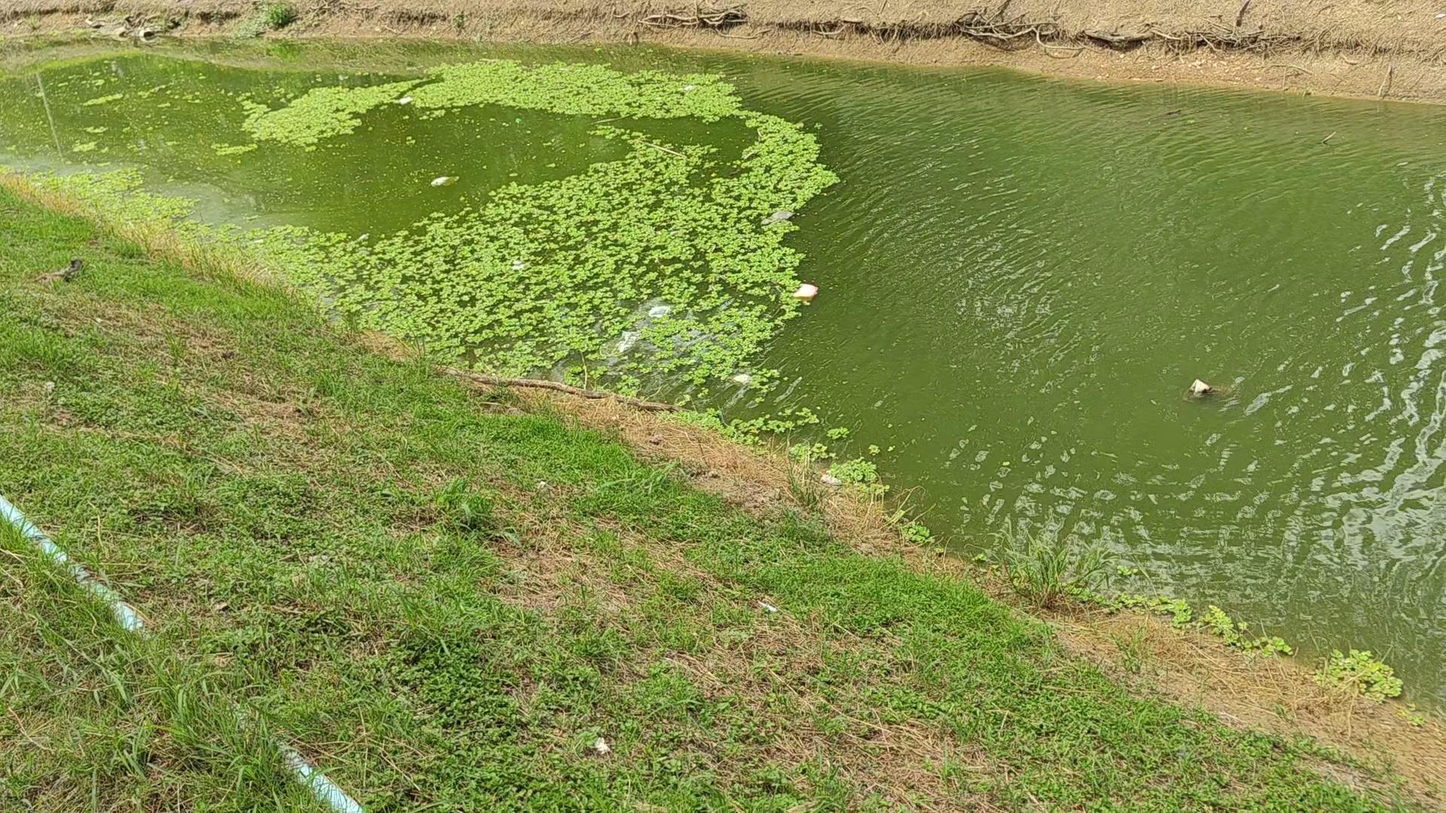trash: (792, 283, 818, 301), (618, 331, 639, 352), (761, 211, 792, 225), (1189, 379, 1213, 397), (648, 305, 670, 318), (431, 176, 456, 186), (732, 373, 752, 385), (397, 96, 412, 104), (683, 84, 696, 91)
